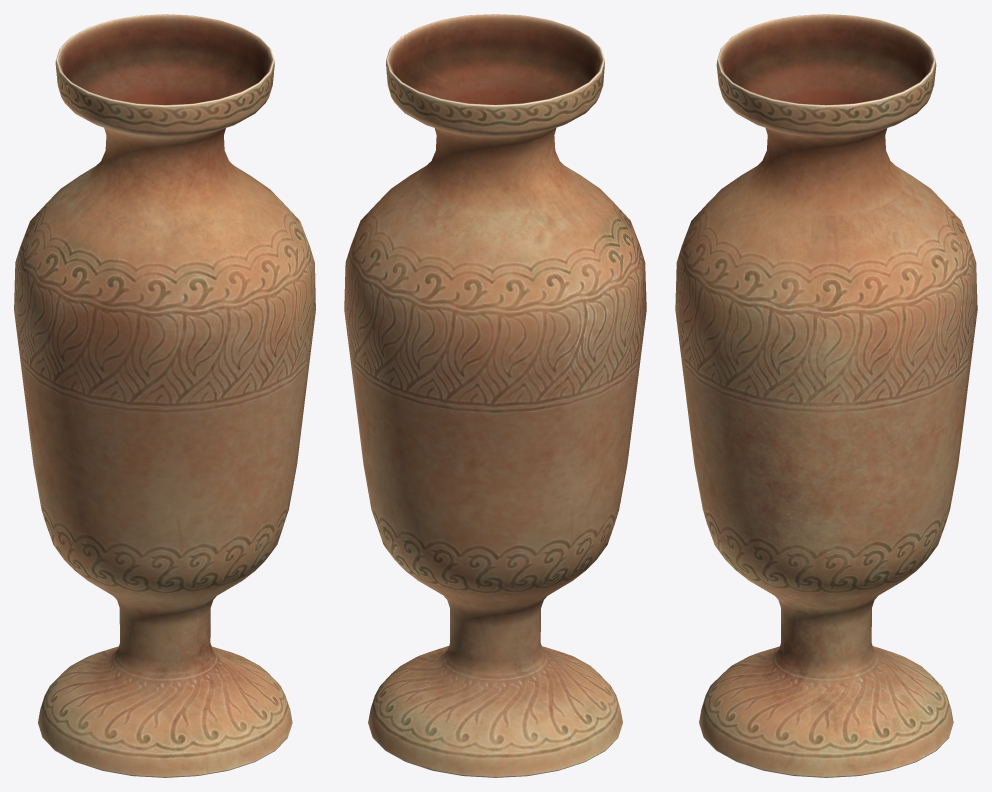
The model's file is brass_vase.glb.
The picture shows the model from 3 angles, left to right: view 1: azimuth 30°, elevation 25°; view 2: azimuth 150°, elevation 25°; view 3: azimuth 270°, elevation 25°; orthographic projection.
Parts seen in each view (by area): view 1: brass_vase_03; view 2: brass_vase_03; view 3: brass_vase_03.
Part boxes in pixels (x1,y1,x2,y2): brass_vase_03: (14, 14, 315, 777); brass_vase_03: (344, 14, 646, 777); brass_vase_03: (675, 14, 977, 777).
Bounding box in the file's own units: 0.0825 × 0.2004 × 0.0825.
1 material, 1 textured.
